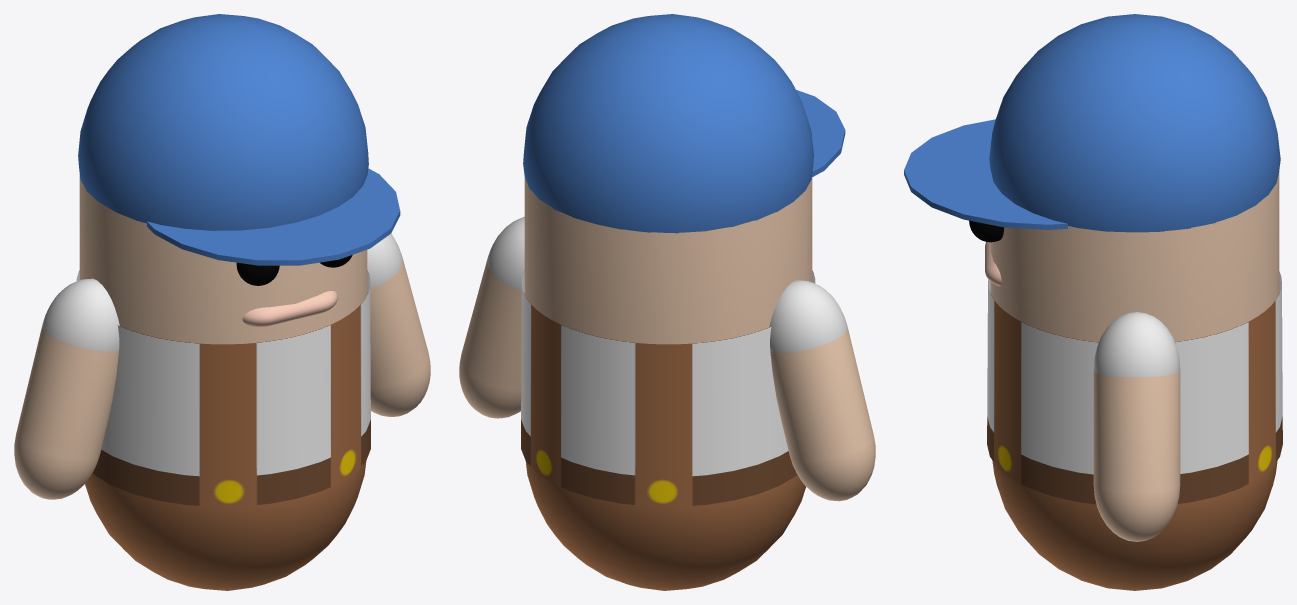
The model's file is enemy_child.fbx.
3 views of the same model, side by side, from view 1: azimuth 30°, elevation 25°; view 2: azimuth 150°, elevation 25°; view 3: azimuth 270°, elevation 25° (orthographic).
Visible parts, largest first — view 1: Helmet_Top, Suspender_Shirt, Body, Shorts, RightArm, LeftArm, RightSleeve, Mouth, LeftSleeve, RightEye; view 2: Helmet_Top, Suspender_Shirt, Body, Shorts, RightArm, LeftArm, RightSleeve, LeftSleeve; view 3: Helmet_Top, Suspender_Shirt, Body, Shorts, LeftArm, LeftSleeve, LeftEye.
Boxes of the visible parts, left/top/right/bottom form: Helmet_Top: left=78, top=14, right=400, bottom=265; Suspender_Shirt: left=76, top=270, right=370, bottom=506; Body: left=79, top=174, right=367, bottom=344; Shorts: left=85, top=461, right=366, bottom=590; RightArm: left=14, top=326, right=118, bottom=499; LeftArm: left=370, top=257, right=430, bottom=416; RightSleeve: left=42, top=278, right=119, bottom=351; Mouth: left=242, top=291, right=337, bottom=326; LeftSleeve: left=367, top=234, right=402, bottom=288; RightEye: left=236, top=262, right=279, bottom=285; Helmet_Top: left=523, top=14, right=845, bottom=233; Suspender_Shirt: left=521, top=270, right=815, bottom=506; Body: left=524, top=177, right=812, bottom=344; Shorts: left=525, top=461, right=805, bottom=590; RightArm: left=770, top=328, right=875, bottom=501; LeftArm: left=459, top=259, right=521, bottom=418; RightSleeve: left=769, top=280, right=847, bottom=352; LeftSleeve: left=487, top=216, right=524, bottom=290; Helmet_Top: left=904, top=14, right=1280, bottom=232; Suspender_Shirt: left=987, top=271, right=1282, bottom=504; Body: left=990, top=172, right=1279, bottom=342; Shorts: left=992, top=460, right=1277, bottom=590; LeftArm: left=1093, top=370, right=1180, bottom=541; LeftSleeve: left=1093, top=312, right=1180, bottom=377; LeftEye: left=969, top=220, right=1004, bottom=242.
Size of the model in its own units: 130 by 168 by 105.
